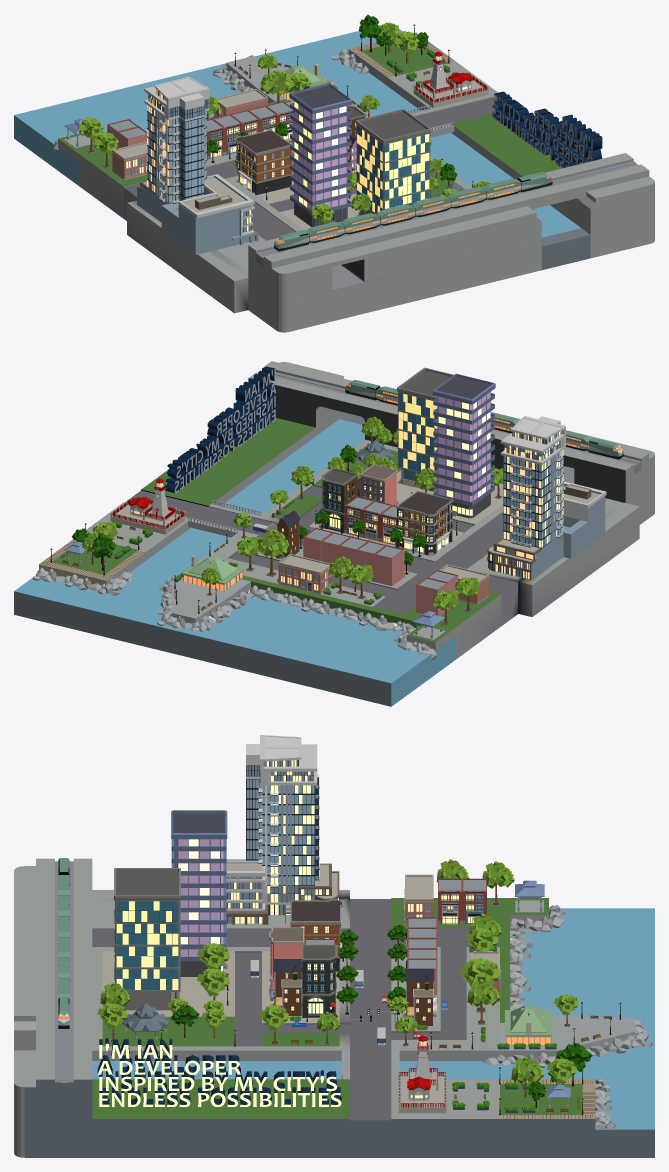
The model's file is PortCredit2-PreBakeNightTime3.glb.
The picture shows the model from 3 angles, top to bottom: view 1: azimuth 30°, elevation 25°; view 2: azimuth 150°, elevation 25°; view 3: azimuth 270°, elevation 25°; orthographic projection. The views are drawn at different scales.
Parts seen in each view (by area): view 1: Base, skyscraper-C_cgcookie.006, skyscraper-B_cgcookie.003, HURONTARIO_BOTTOM_NIGHT, HURONTARIO_MIDDLE_NIGHT, HURONTARIO_TOP_NIGHT, Lighthouse__NIGHT, tree-small_cgcookie (×3), Plane.002, STARCH_BUILDING_NIGHT, WATERSIDE_BUILDING_+NIGHT, Plane.005 (+15 smaller); view 2: Base, skyscraper-C_cgcookie.006, HURONTARIO_MIDDLE_NIGHT, HURONTARIO_BOTTOM_NIGHT, skyscraper-B_cgcookie.003, HURONTARIO_TOP_NIGHT, Lighthouse__NIGHT, residential-corner-A_cgcookie.001, WATERSIDE_BUILDING_+NIGHT, Icosphere.133, residential_B_cgcookie.006, SNUG_HARBOUR_NIGHT (+14 smaller); view 3: Base, skyscraper-B_cgcookie.003, skyscraper-C_cgcookie.006, HURONTARIO_MIDDLE_NIGHT, HURONTARIO_BOTTOM_NIGHT, tree-small_cgcookie (×6), HURONTARIO_TOP_NIGHT, residential_C_cgcookie (×2), residential-corner-A_cgcookie.001, Lighthouse__NIGHT, SNUG_HARBOUR_NIGHT, Icosphere.133 (+7 smaller).
Boxes of the visible parts, left/top/right/bottom form: Base: left=14, top=23, right=654, bottom=332; skyscraper-C_cgcookie.006: left=289, top=83, right=352, bottom=227; skyscraper-B_cgcookie.003: left=355, top=109, right=431, bottom=216; HURONTARIO_BOTTOM_NIGHT: left=137, top=174, right=258, bottom=254; HURONTARIO_MIDDLE_NIGHT: left=147, top=105, right=206, bottom=203; HURONTARIO_TOP_NIGHT: left=144, top=77, right=209, bottom=121; Lighthouse__NIGHT: left=413, top=51, right=488, bottom=107; tree-small_cgcookie (×3): left=78, top=70, right=294, bottom=168; Plane.002: left=239, top=144, right=291, bottom=183; STARCH_BUILDING_NIGHT: left=112, top=141, right=146, bottom=180; WATERSIDE_BUILDING_+NIGHT: left=214, top=89, right=267, bottom=117; Plane.005: left=234, top=129, right=290, bottom=155; Base: left=14, top=361, right=654, bottom=706; skyscraper-C_cgcookie.006: left=432, top=373, right=495, bottom=518; HURONTARIO_MIDDLE_NIGHT: left=503, top=450, right=563, bottom=548; HURONTARIO_BOTTOM_NIGHT: left=487, top=481, right=606, bottom=580; skyscraper-B_cgcookie.003: left=397, top=367, right=453, bottom=491; HURONTARIO_TOP_NIGHT: left=500, top=416, right=565, bottom=464; Lighthouse__NIGHT: left=110, top=478, right=185, bottom=534; residential-corner-A_cgcookie.001: left=319, top=468, right=357, bottom=533; WATERSIDE_BUILDING_+NIGHT: left=278, top=554, right=332, bottom=594; Icosphere.133: left=37, top=567, right=436, bottom=659; residential_B_cgcookie.006: left=360, top=464, right=398, bottom=505; SNUG_HARBOUR_NIGHT: left=181, top=555, right=244, bottom=591; Base: left=14, top=858, right=654, bottom=1157; skyscraper-B_cgcookie.003: left=114, top=868, right=180, bottom=1010; skyscraper-C_cgcookie.006: left=171, top=810, right=227, bottom=976; HURONTARIO_MIDDLE_NIGHT: left=246, top=774, right=319, bottom=887; HURONTARIO_BOTTOM_NIGHT: left=226, top=859, right=339, bottom=924; tree-small_cgcookie (×6): left=197, top=861, right=543, bottom=1097; HURONTARIO_TOP_NIGHT: left=246, top=735, right=317, bottom=785; residential_C_cgcookie (×2): left=270, top=959, right=436, bottom=1025; residential-corner-A_cgcookie.001: left=301, top=944, right=338, bottom=1017; Lighthouse__NIGHT: left=398, top=1035, right=446, bottom=1113; SNUG_HARBOUR_NIGHT: left=505, top=1005, right=552, bottom=1045; Icosphere.133: left=482, top=905, right=645, bottom=1123.
Bounding box in the file's own units: 33.53 × 13.26 × 39.4.
Materials: 68 (4 with a texture image).
